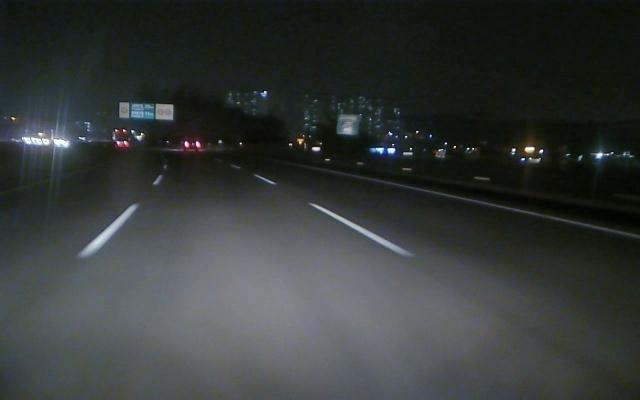lane: (324, 169, 637, 239), (257, 175, 414, 256), (74, 176, 163, 259)
